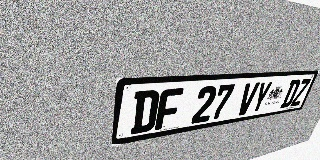2: (191, 85, 218, 124)
7: (209, 84, 235, 121)
D: (130, 90, 161, 135), (280, 79, 302, 108)
F: (155, 88, 184, 130)
V: (235, 82, 260, 116)
Y: (249, 81, 273, 114)
Z: (290, 78, 311, 106)
